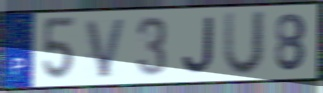3: (135, 14, 170, 80)
5: (40, 15, 78, 85)
8: (273, 12, 306, 73)
J: (180, 14, 216, 76)
U: (221, 9, 268, 78)
V: (83, 16, 129, 81)
